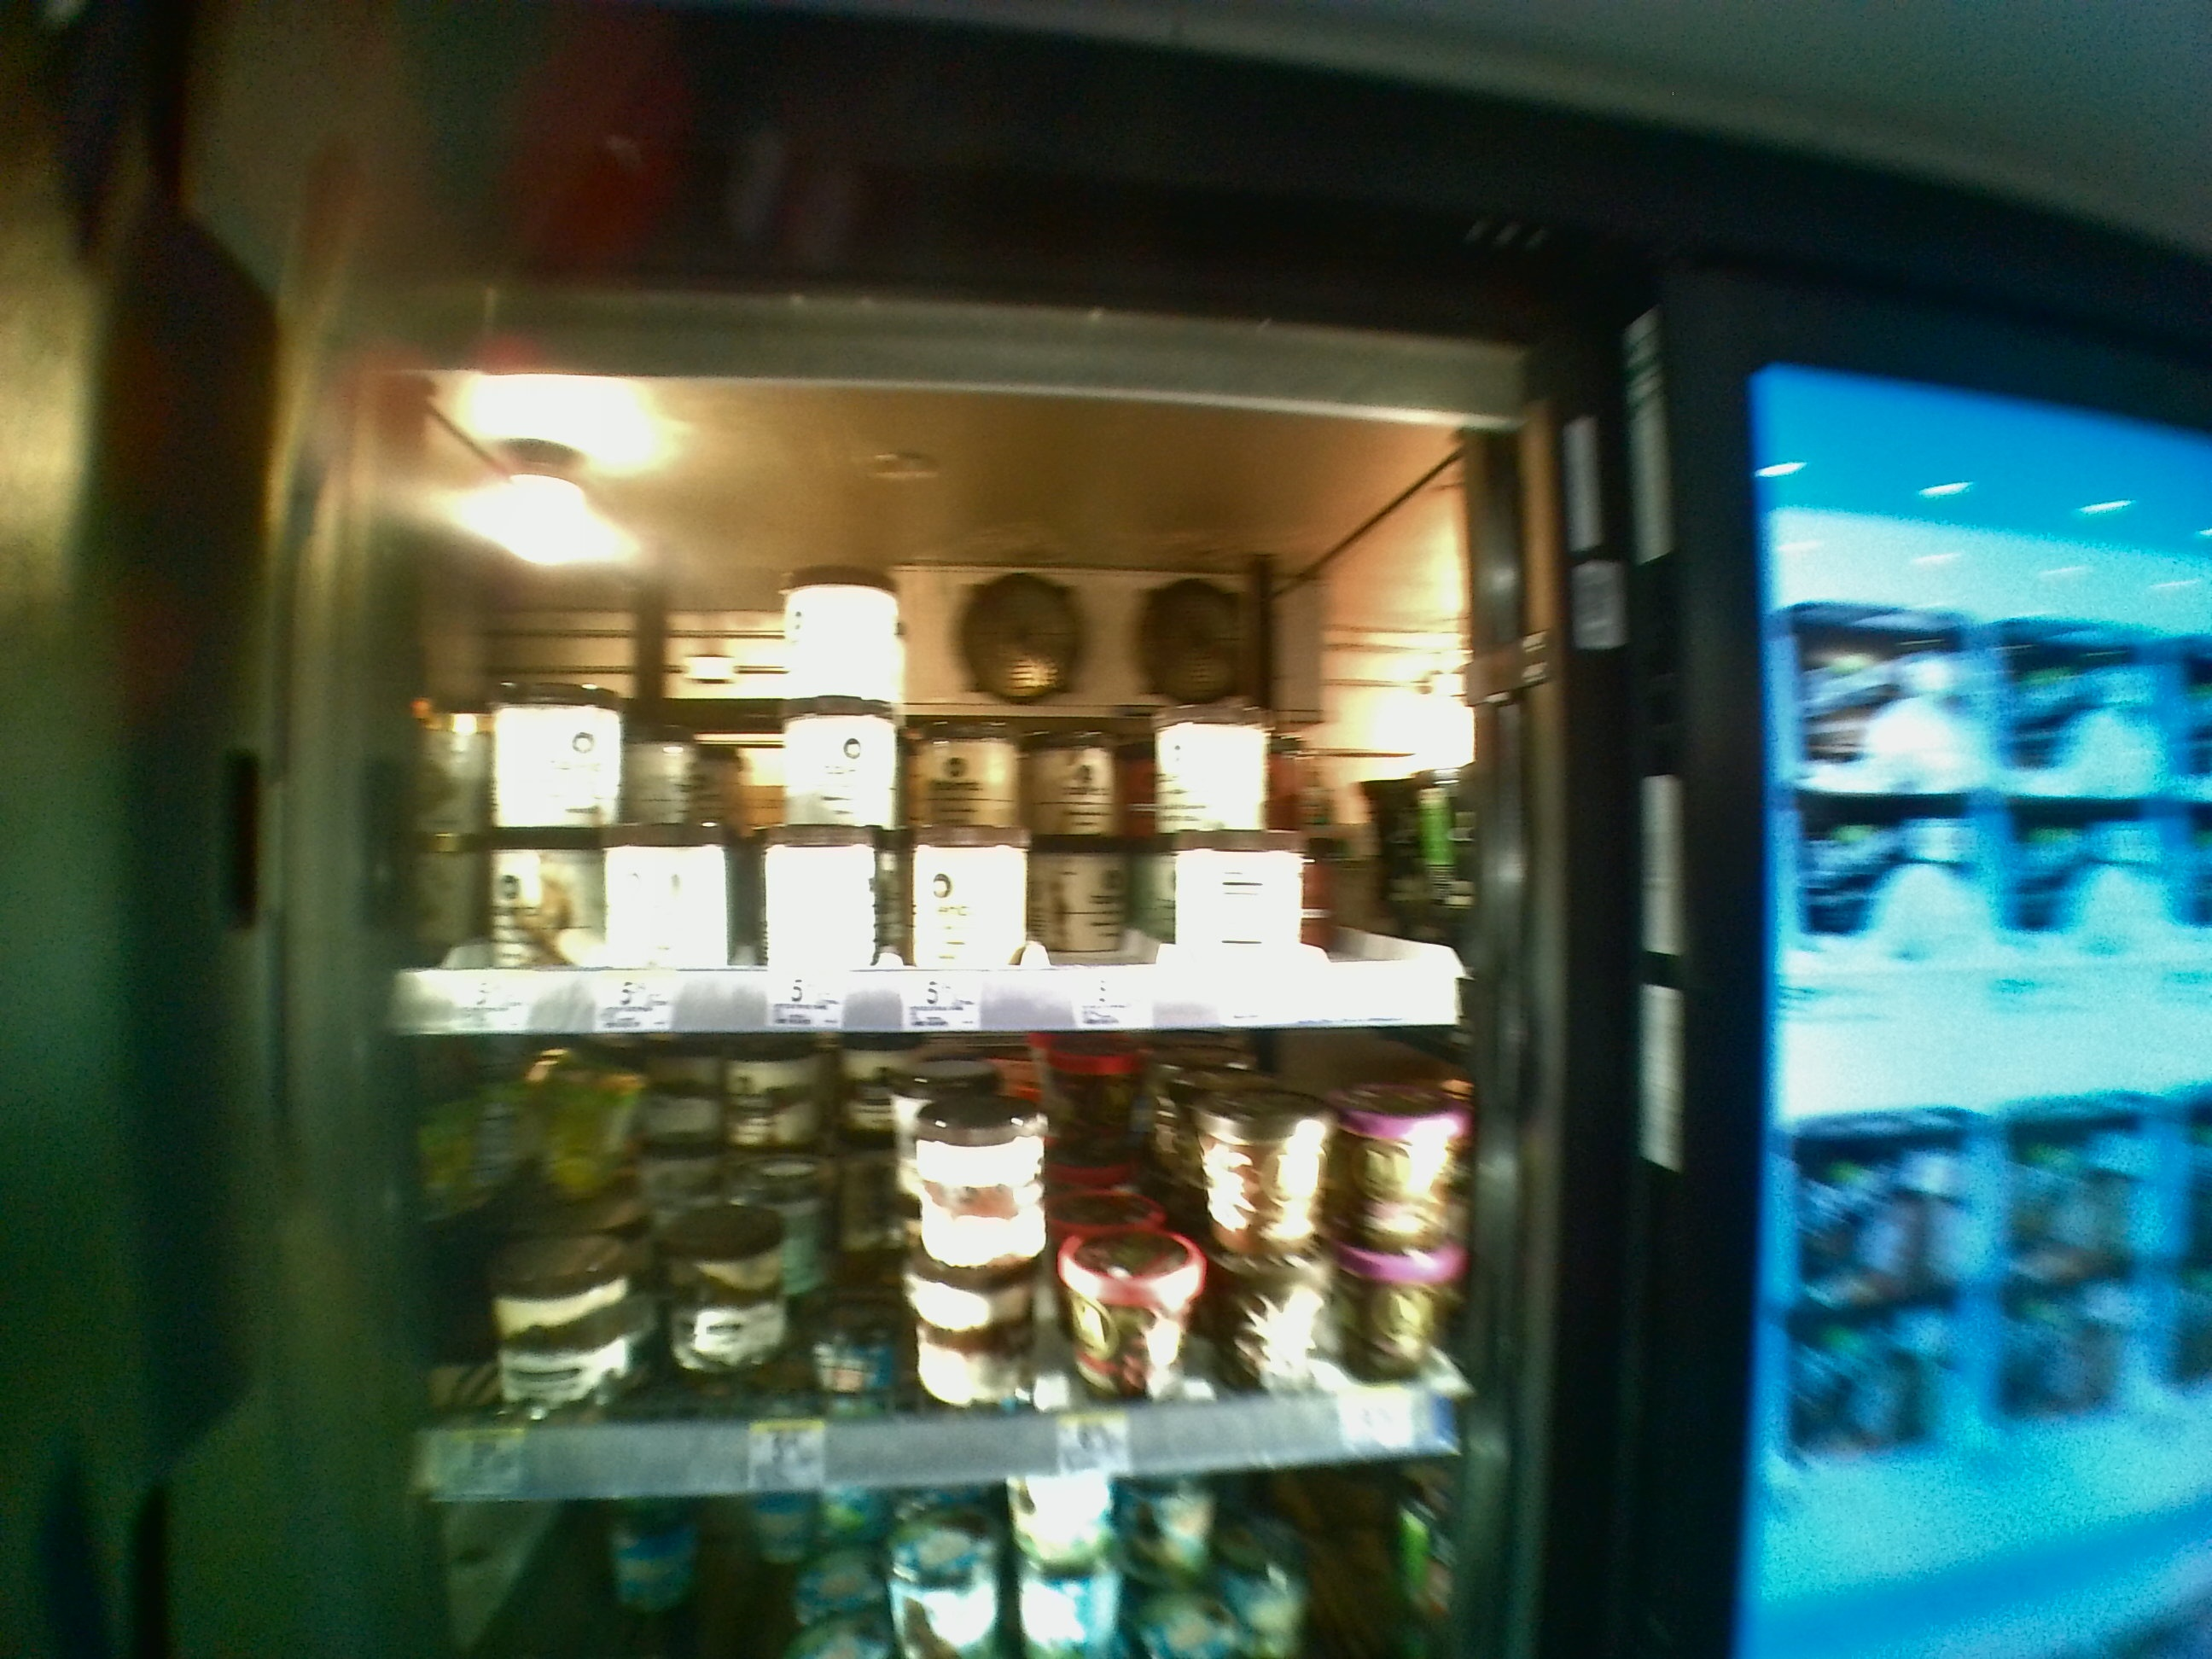shelf: (350, 382, 1474, 1030), (369, 1044, 1480, 1509)
